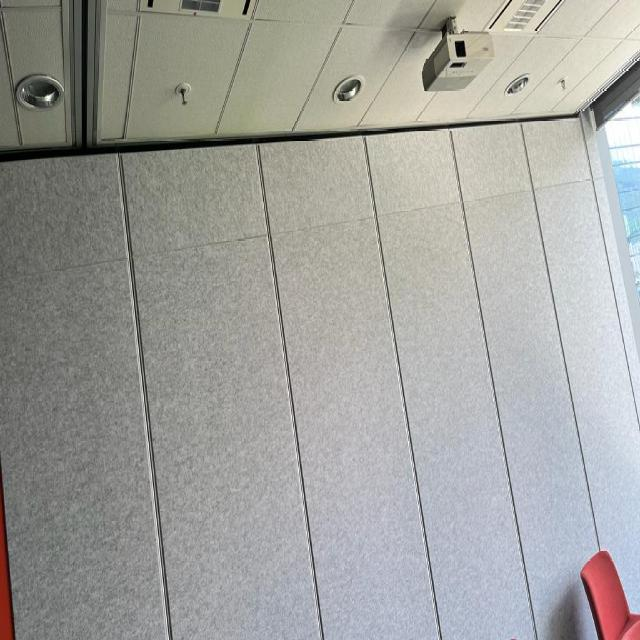Light-Closed: (14, 64, 64, 115), (327, 64, 368, 111), (503, 69, 531, 102)
